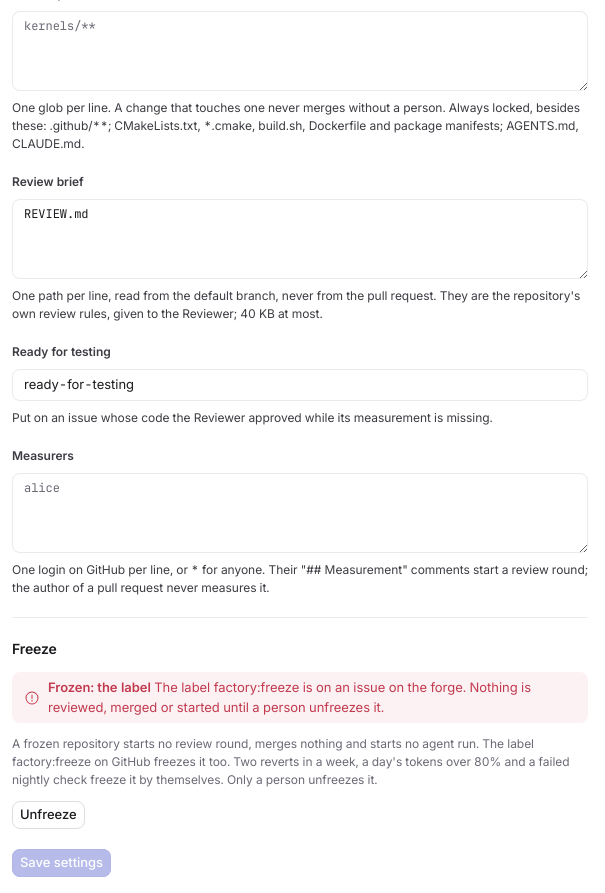
Test: the repository's working with others › shows the server's refusal to unfreeze while the label is on an issue
(page scrolled)
Click the button "Unfreeze" at (48, 815), box left=12, top=801, right=85, bottom=829
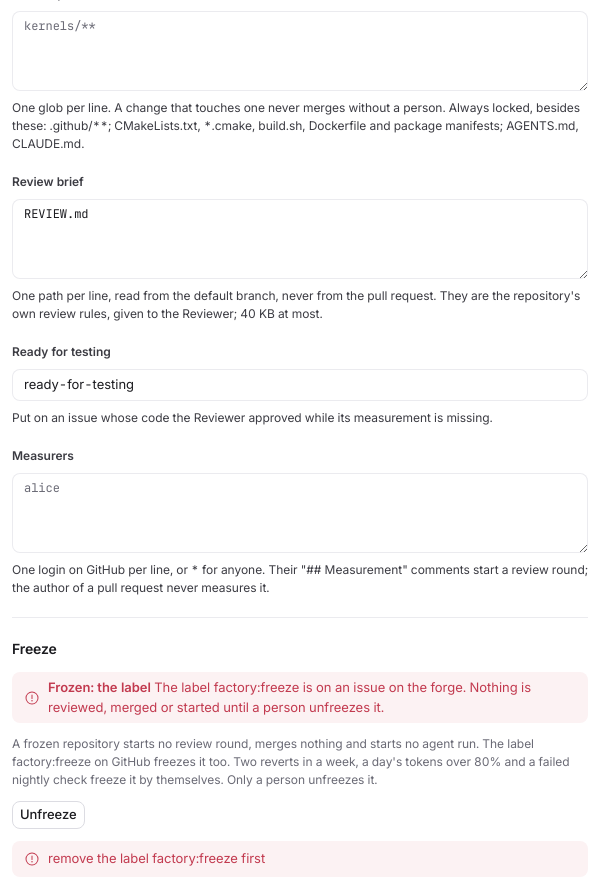
Now the text "remove the label factory:freeze first" is shown, box left=48, top=850, right=265, bottom=866
